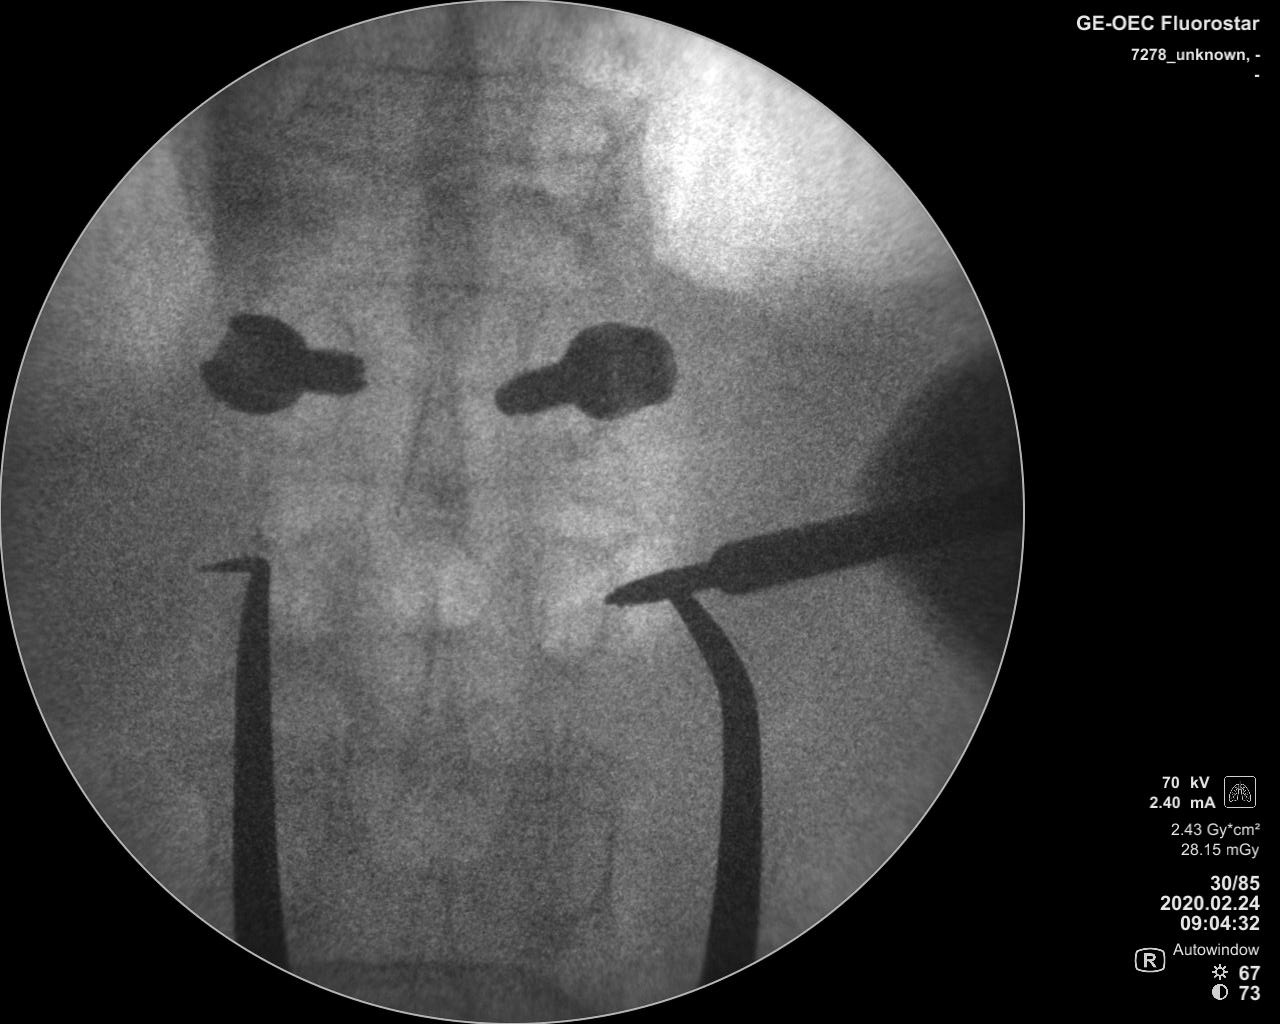eyes: (528, 536, 604, 676), (267, 525, 348, 638)
nose: (395, 598, 471, 802), (406, 181, 486, 355), (396, 372, 473, 546), (413, 14, 490, 186), (405, 850, 479, 1014)
